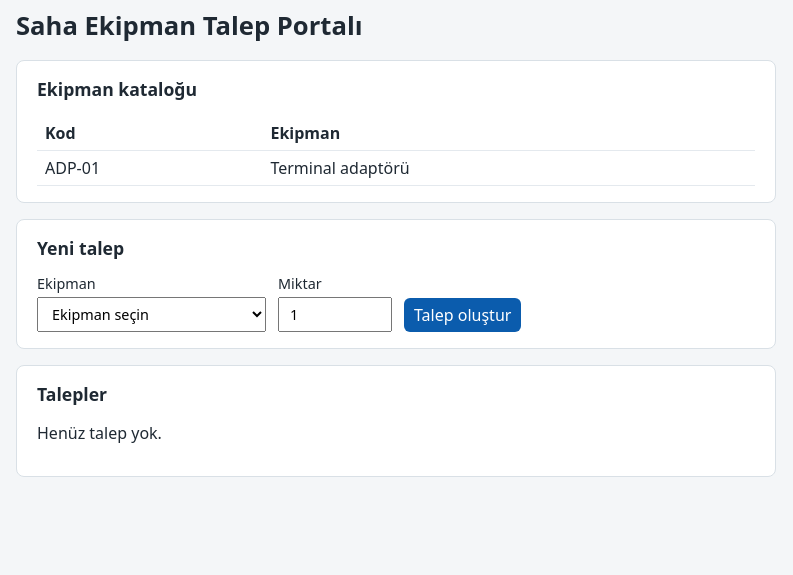
Test case: reloads the order list after a new order is created
Expected: the cell "Terminal adaptörü" is shown, [262,150,755,185]
Select "ADP-01 - Terminal adaptörü" in the dropdown labelled "Ekipman" at (152, 315), box [37,298,266,332]
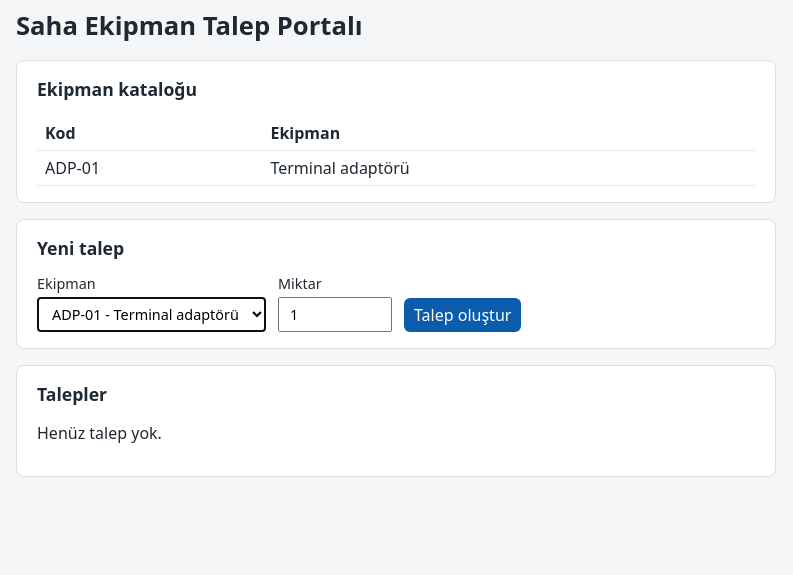
Click the button "Talep oluştur" at (463, 316), box [404,298,521,332]
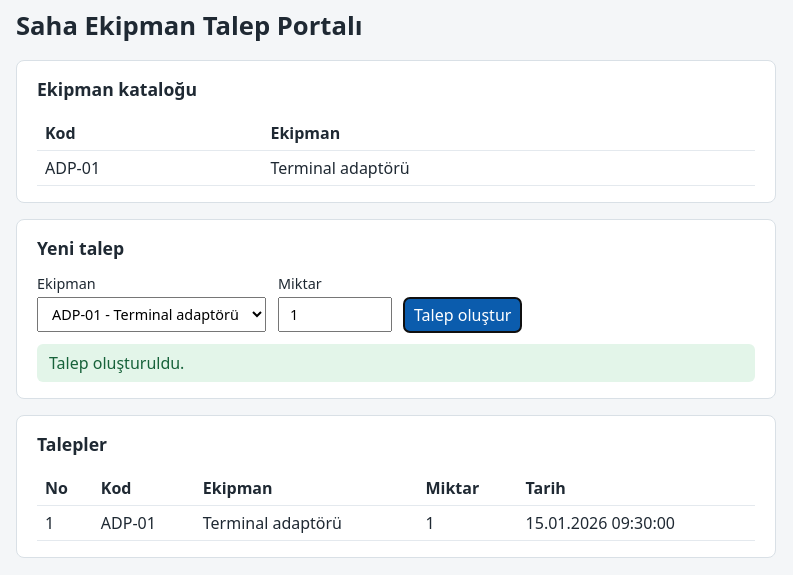
Result: the message reads "Talep oluşturuldu." at [49,352,184,374]
Result: the text "Henüz talep yok." is gone
